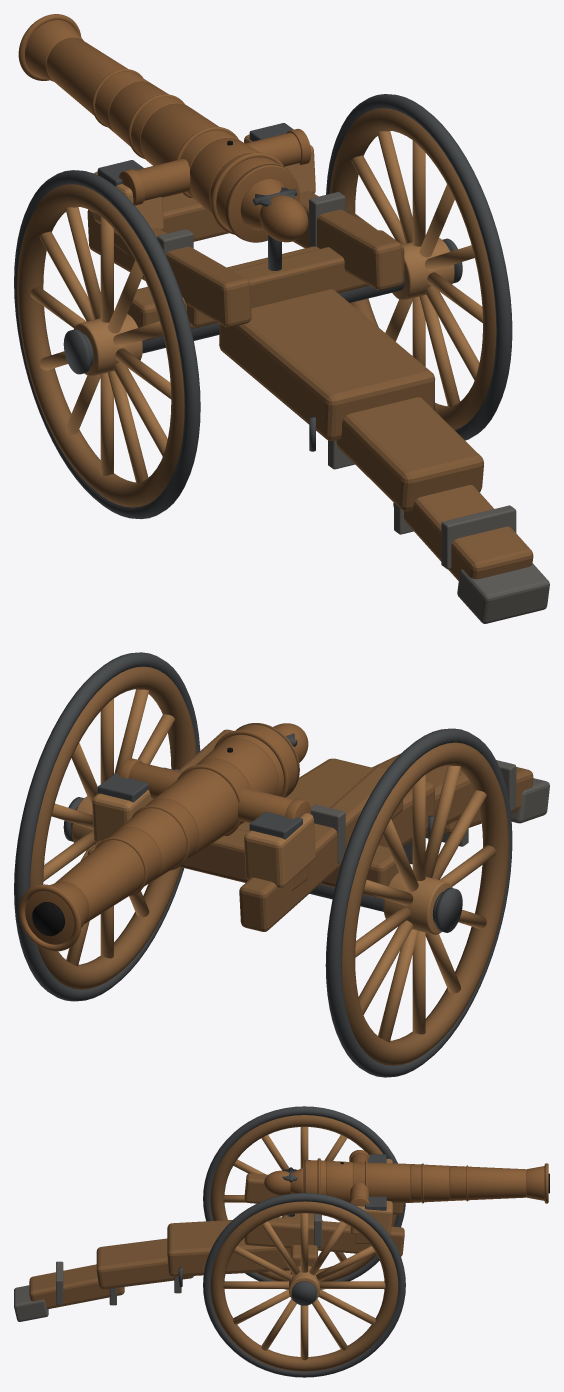
The model's file is wooden_gun_carriage_v1.glb.
The picture shows the model from 3 angles, top to bottom: view 1: azimuth 30°, elevation 25°; view 2: azimuth 150°, elevation 25°; view 3: azimuth 270°, elevation 25°; orthographic projection. The views are drawn at different scales.
Visible parts, largest first — view 1: GUNCARR_TrailFront, GUNCARR_Wheel_L_WoodFelloe, GUNCARR_TrailMiddle, GUNCARR_Wheel_L_IronTyre, GUNCARR_Wheel_R_WoodFelloe, GUNCARR_Wheel_R_IronTyre, GUNCARR_TrailRear, GUNCARR_Cheek_L, GUNCARR_Cheek_R, GUNCARR_RearTransom, CANNON_Chase, GUNCARR_TrailIronShoe (+38 smaller); view 2: GUNCARR_Wheel_L_WoodFelloe, GUNCARR_Wheel_R_WoodFelloe, GUNCARR_Wheel_L_IronTyre, GUNCARR_Wheel_R_IronTyre, GUNCARR_Cheek_L, CANNON_Chase, CANNON_FirstReinforce, GUNCARR_TrailFront, GUNCARR_TrunnionBlock_L, CANNON_SecondReinforce, GUNCARR_FrontTransom, CANNON_Trunnion (+37 smaller); view 3: GUNCARR_Wheel_R_WoodFelloe, GUNCARR_Wheel_R_IronTyre, GUNCARR_Wheel_L_WoodFelloe, GUNCARR_TrailFront, GUNCARR_TrailMiddle, GUNCARR_Wheel_L_IronTyre, CANNON_Chase, GUNCARR_Cheek_R, GUNCARR_TrailRear, CANNON_FirstReinforce, CANNON_SecondReinforce, CANNON_Breech_Forward (+23 smaller).
Boxes of the visible parts, x1,y1,x2,y2 form: GUNCARR_TrailFront: (219,289,435,440); GUNCARR_Wheel_L_WoodFelloe: (17,184,184,507); GUNCARR_TrailMiddle: (336,397,483,511); GUNCARR_Wheel_L_IronTyre: (14,170,200,519); GUNCARR_Wheel_R_WoodFelloe: (330,108,496,429); GUNCARR_Wheel_R_IronTyre: (326,94,512,440); GUNCARR_TrailRear: (393,485,533,580); GUNCARR_Cheek_L: (87,209,251,327); GUNCARR_Cheek_R: (293,191,403,290); GUNCARR_RearTransom: (187,247,367,326); CANNON_Chase: (46,37,149,132); GUNCARR_TrailIronShoe: (457,563,549,623); GUNCARR_Wheel_L_WoodFelloe: (342,742,508,1065); GUNCARR_Wheel_R_WoodFelloe: (30,666,196,989); GUNCARR_Wheel_L_IronTyre: (325,728,512,1077); GUNCARR_Wheel_R_IronTyre: (14,652,200,1001); GUNCARR_Cheek_L: (239,766,403,931); CANNON_Chase: (54,827,161,923); CANNON_FirstReinforce: (150,758,250,856); GUNCARR_TrailFront: (285,758,434,847); GUNCARR_TrunnionBlock_L: (244,813,315,888); CANNON_SecondReinforce: (117,799,198,879); GUNCARR_FrontTransom: (180,828,308,890); CANNON_Trunnion: (128,762,293,822); GUNCARR_Wheel_R_WoodFelloe: (210,1201,398,1371); GUNCARR_Wheel_R_IronTyre: (203,1193,405,1377); GUNCARR_Wheel_L_WoodFelloe: (210,1115,396,1281); GUNCARR_TrailFront: (167,1217,290,1276); GUNCARR_TrailMiddle: (96,1238,193,1289); GUNCARR_Wheel_L_IronTyre: (203,1106,405,1289); CANNON_Chase: (449,1166,526,1200); GUNCARR_Cheek_R: (244,1217,404,1256); GUNCARR_TrailRear: (29,1264,124,1309); CANNON_FirstReinforce: (353,1162,410,1203); CANNON_SecondReinforce: (410,1164,449,1202); CANNON_Breech_Forward: (326,1160,352,1202).
Size of the model in its own units: 1.83 by 1.51 by 3.98.
